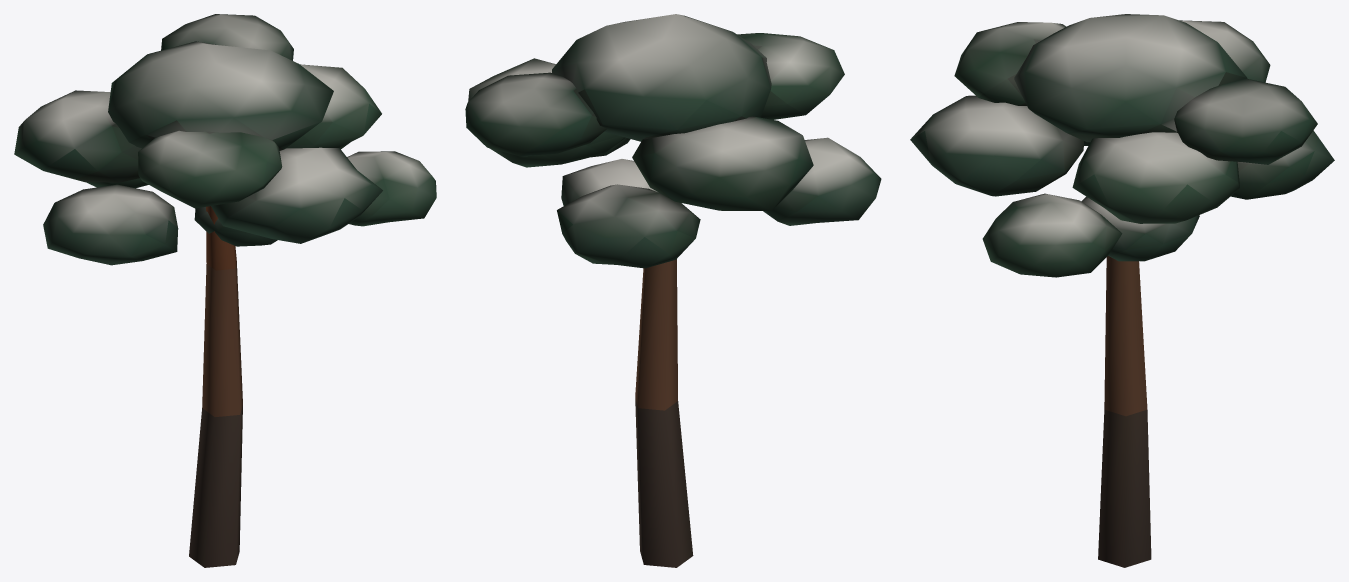
Rendered from pine_tall_lod.glb.
The picture shows the model from 3 angles, left to right: view 1: azimuth 30°, elevation 25°; view 2: azimuth 150°, elevation 25°; view 3: azimuth 270°, elevation 25°; orthographic projection. The views are drawn at different scales.
Parts seen in each view (by area): view 1: pine_tall_lod_mesh; view 2: pine_tall_lod_mesh; view 3: pine_tall_lod_mesh.
Boxes of the visible parts, x1,y1,x2,y2 form: pine_tall_lod_mesh: (14, 14, 436, 567); pine_tall_lod_mesh: (465, 14, 881, 567); pine_tall_lod_mesh: (910, 14, 1334, 567).
Bounding box in the file's own units: 3.07 × 4.02 × 2.98.
